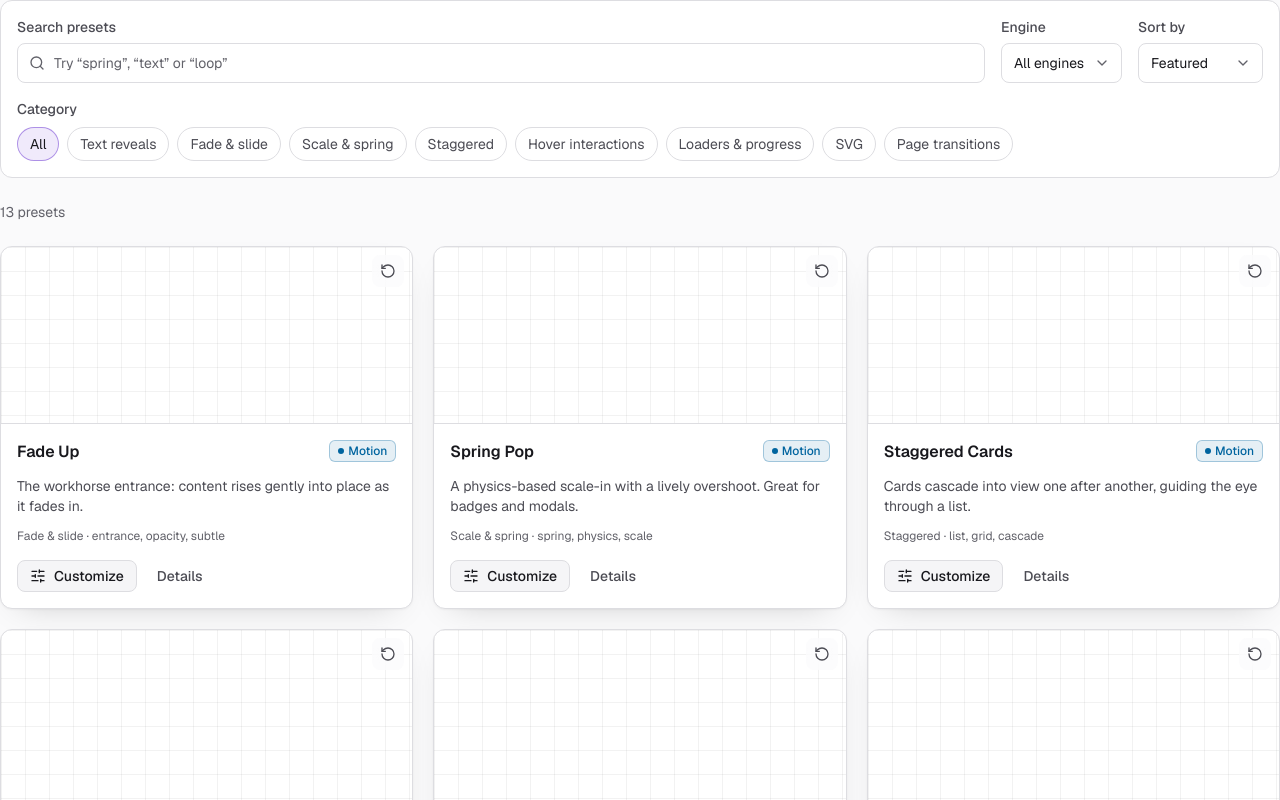
Test: GalleryBrowser › filters by search query
Type "headline" into the search field labelled "Search presets".
click(501, 63); type("headline")  # box [17,43,985,83]
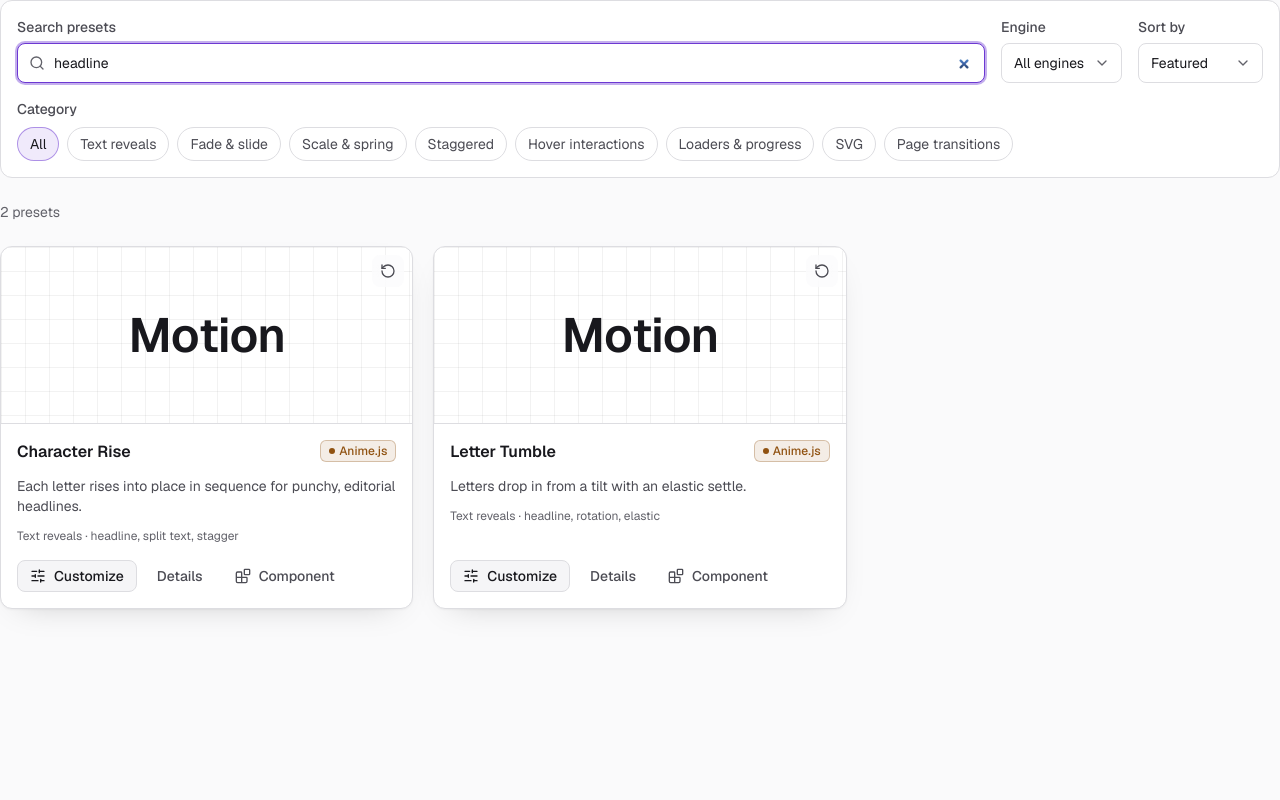
Check: the text "2 presets" is shown, box [0,203,60,221]
